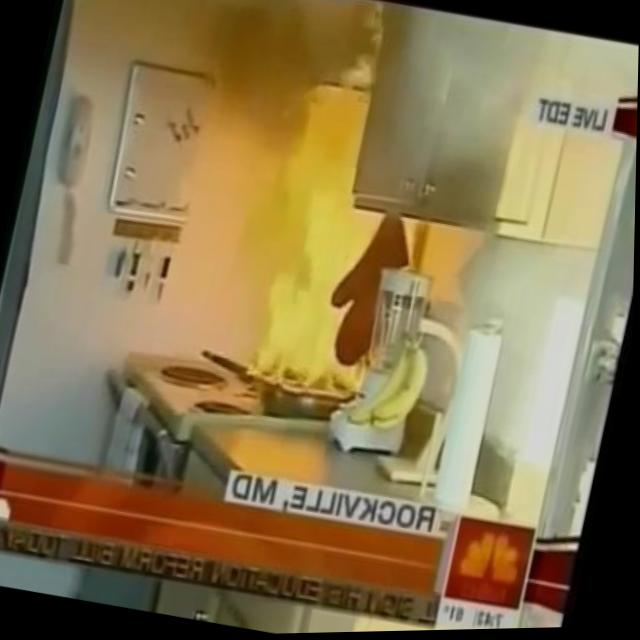fire: (235, 191, 421, 408), (260, 76, 374, 213)
